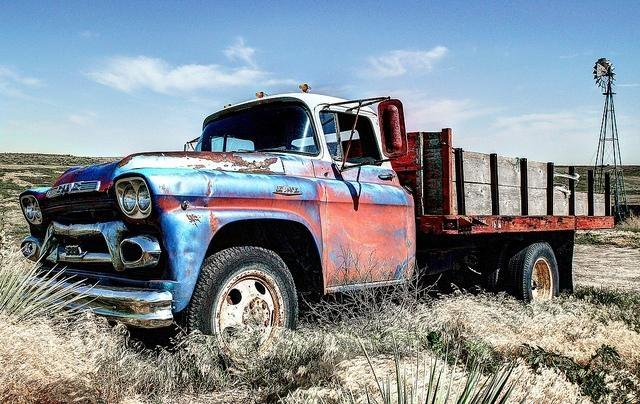truck: (18, 90, 616, 344)
